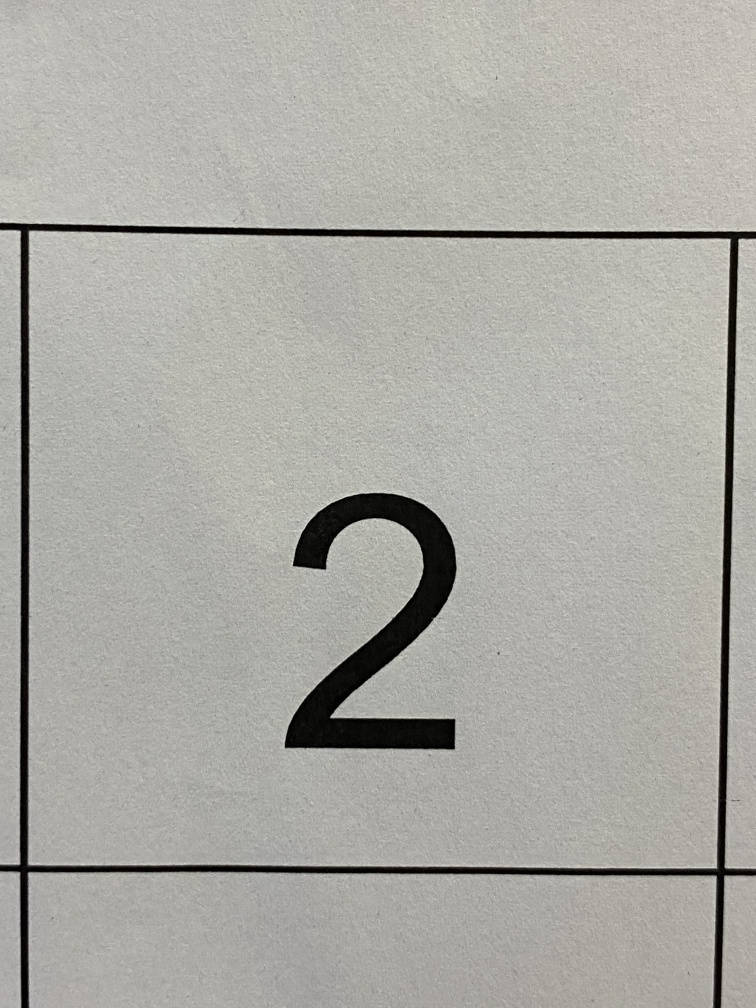two: (241, 460, 510, 816)
